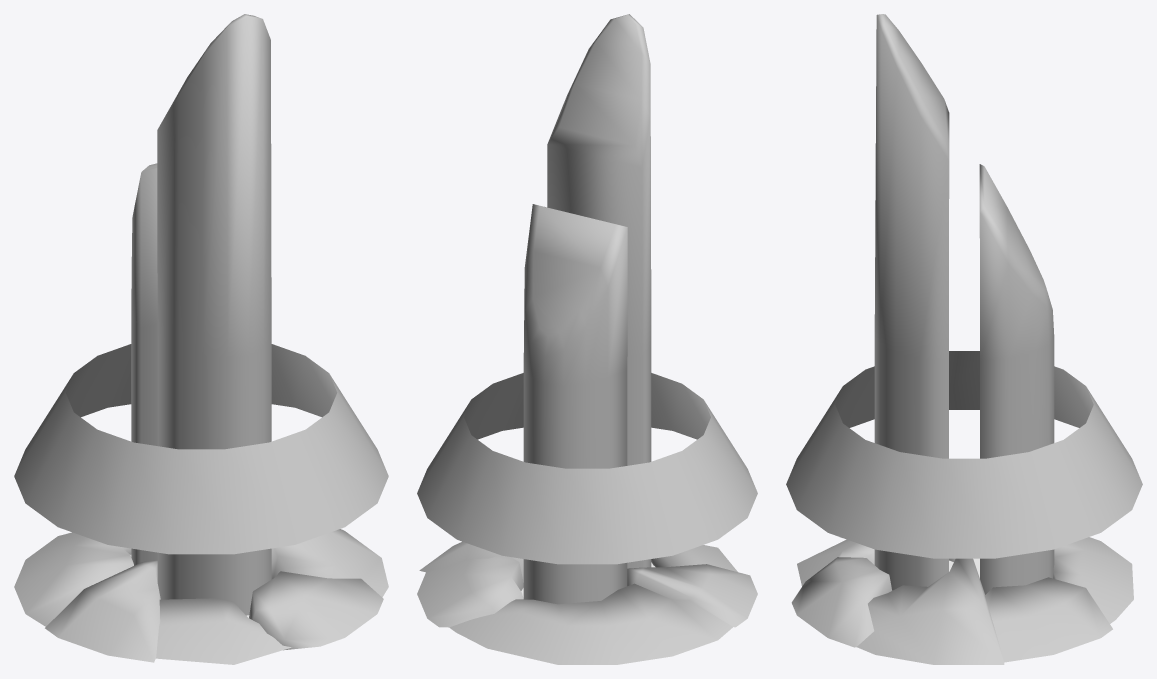
The model's file is BuildingBallistic.fbx.
3 views of the same model, side by side, from view 1: azimuth 30°, elevation 25°; view 2: azimuth 150°, elevation 25°; view 3: azimuth 270°, elevation 25° (orthographic). The views are drawn at different scales.
Parts seen in each view (by area): view 1: Ballistics-Pillars, Ballistics-Ring, Ballistics-Rock; view 2: Ballistics-Pillars, Ballistics-Ring, Ballistics-Rock; view 3: Ballistics-Pillars, Ballistics-Ring, Ballistics-Rock.
Boxes of the visible parts, bbox=[...] form: Ballistics-Pillars: bbox=[131, 14, 271, 615]; Ballistics-Ring: bbox=[14, 344, 388, 554]; Ballistics-Rock: bbox=[14, 529, 388, 664]; Ballistics-Pillars: bbox=[523, 14, 651, 604]; Ballistics-Ring: bbox=[417, 373, 757, 564]; Ballistics-Rock: bbox=[417, 541, 757, 664]; Ballistics-Pillars: bbox=[874, 14, 1054, 594]; Ballistics-Ring: bbox=[786, 351, 1142, 558]; Ballistics-Rock: bbox=[791, 537, 1133, 664].
Size of the model in its own units: 1.86 by 3.34 by 1.87.
